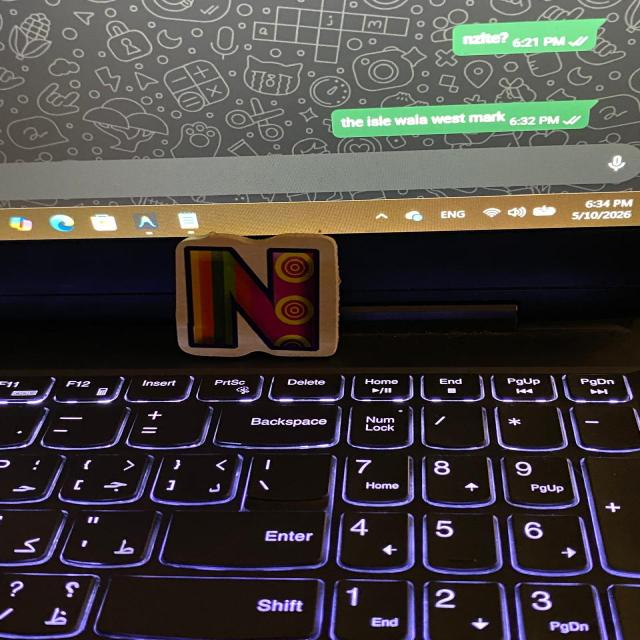N: (176, 234, 338, 358)
